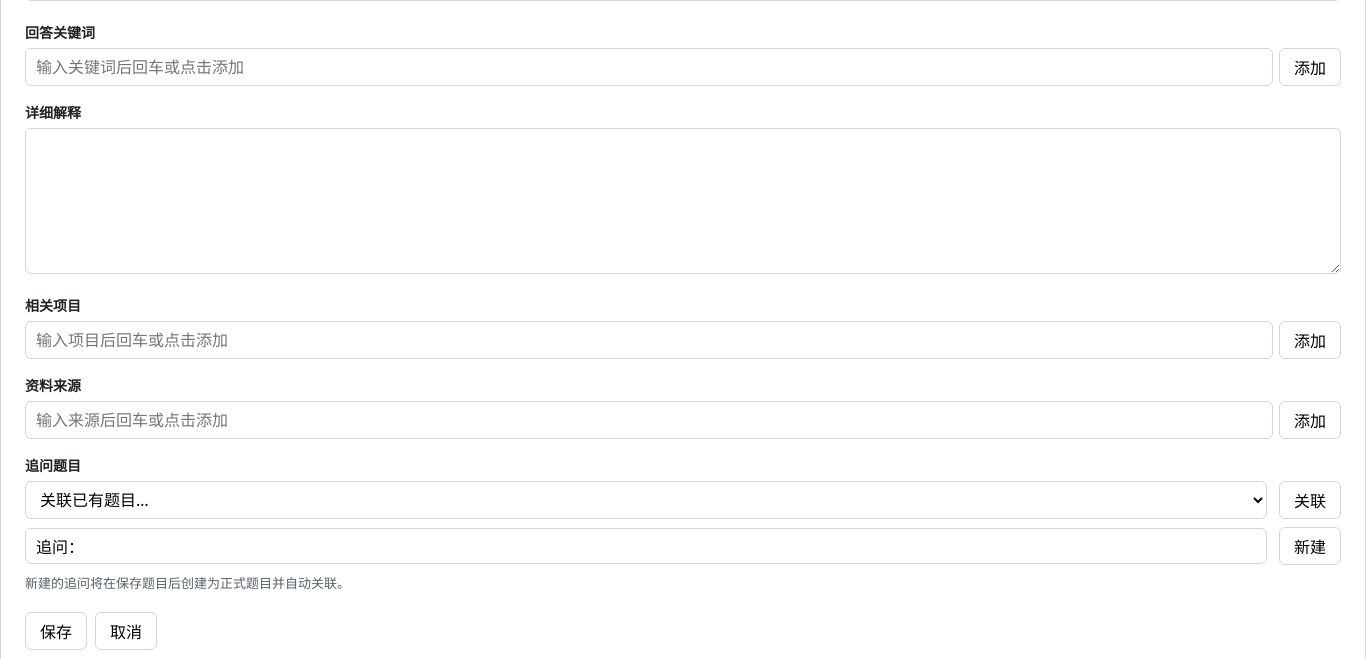
Test case: QuestionForm › 必填字段为空时阻止保存并显示明确错误
The width and height of the screenshot is (1366, 659).
(page scrolled)
Step 1. Click the button "保存" → click(56, 631), box [25,612,87,650]
(page scrolled)
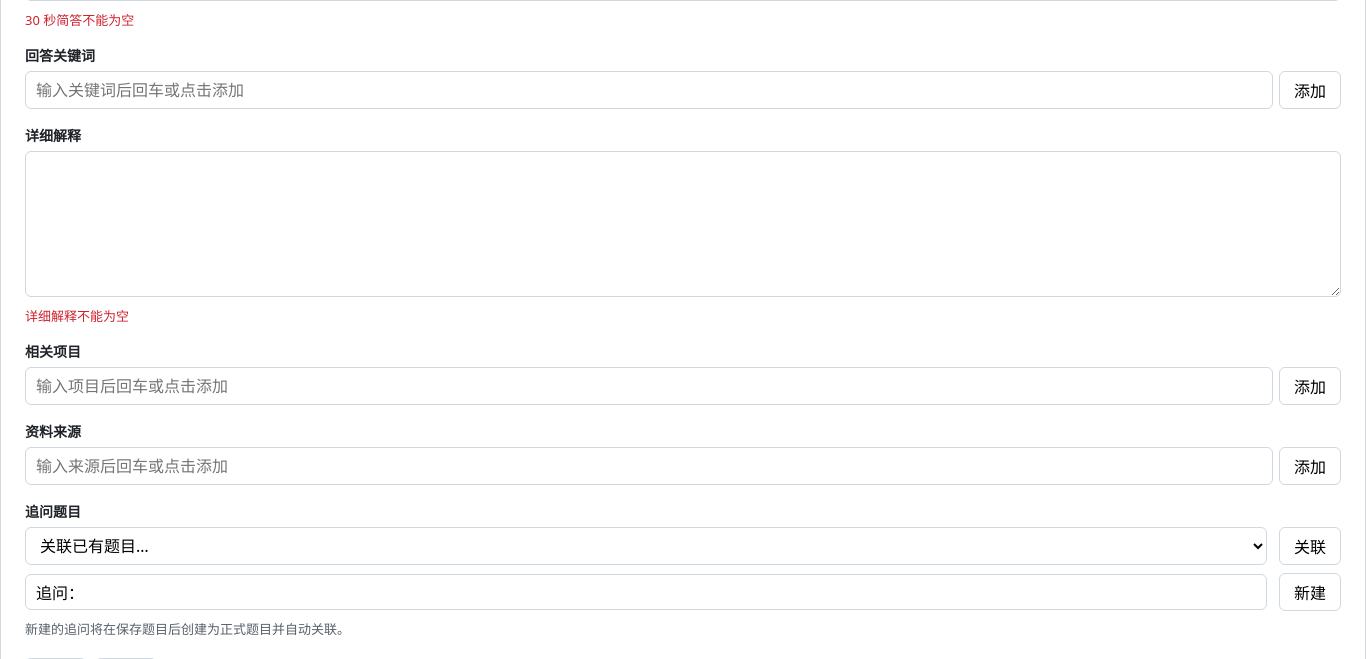
Result: the text "30 秒简答不能为空" is shown at [25,11,134,29]
Result: the text "详细解释不能为空" is shown at [25,307,129,325]
